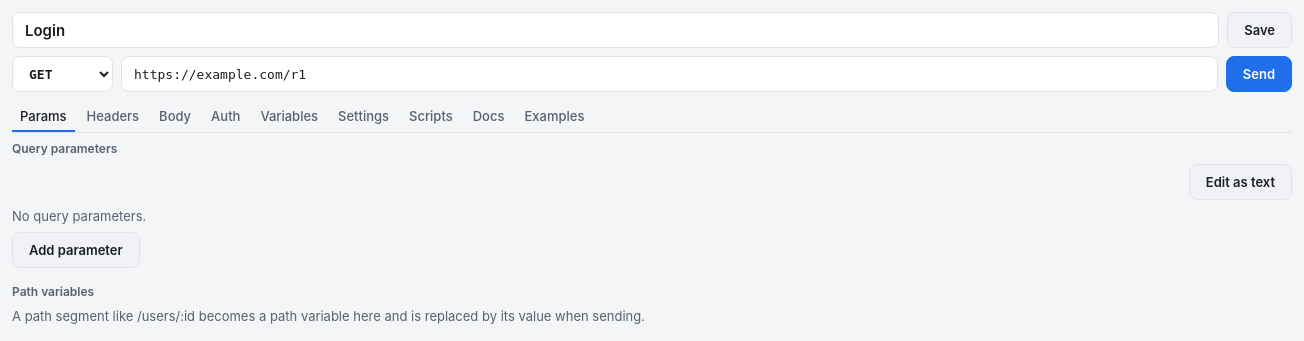
RequestEditor › edits the request variables
Click the tab "Variables". click: x=289, y=116
box: [252,100,326,132]
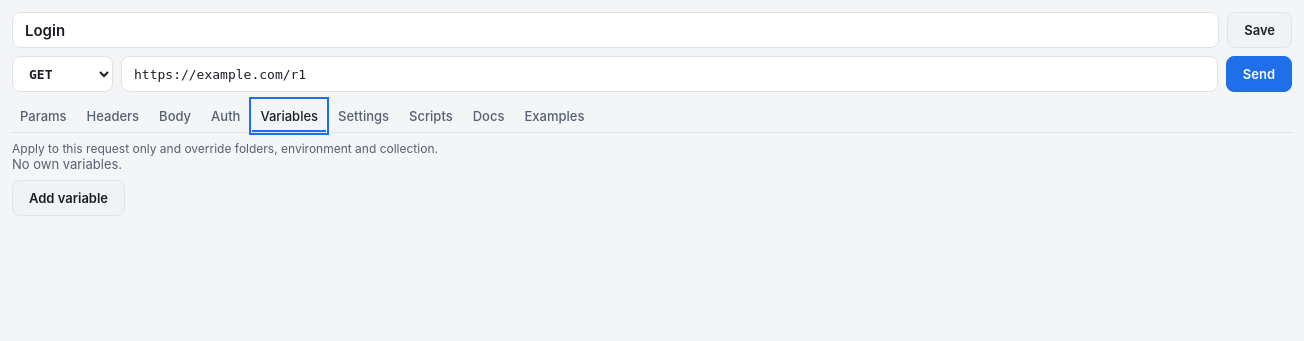
Expected: the text "No own variables." is shown, [12,156,122,172]
Expected: the text "override folders, environment and collection" is shown, [12,141,438,156]
Click the button "Add variable". click: x=69, y=198
box: [12,180,125,216]
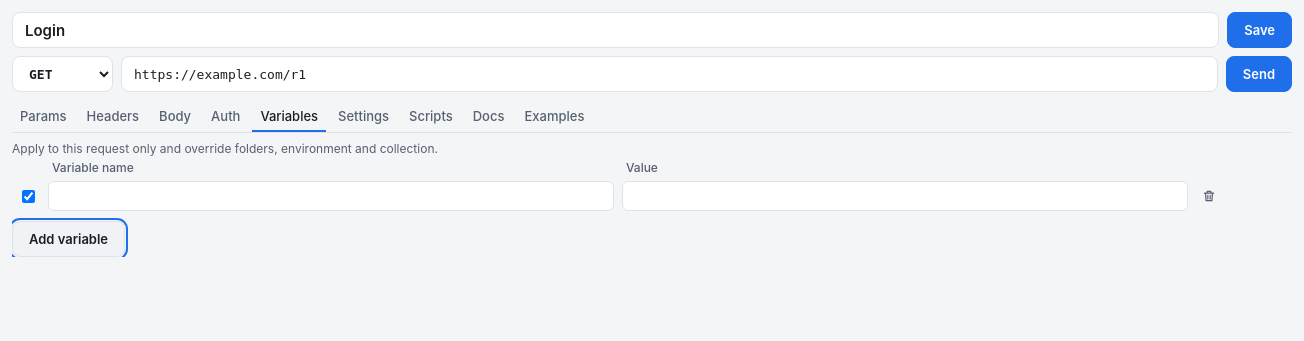
Type "path" into the field named "Variable name". click: x=331, y=196
box: [48,181,614,211]
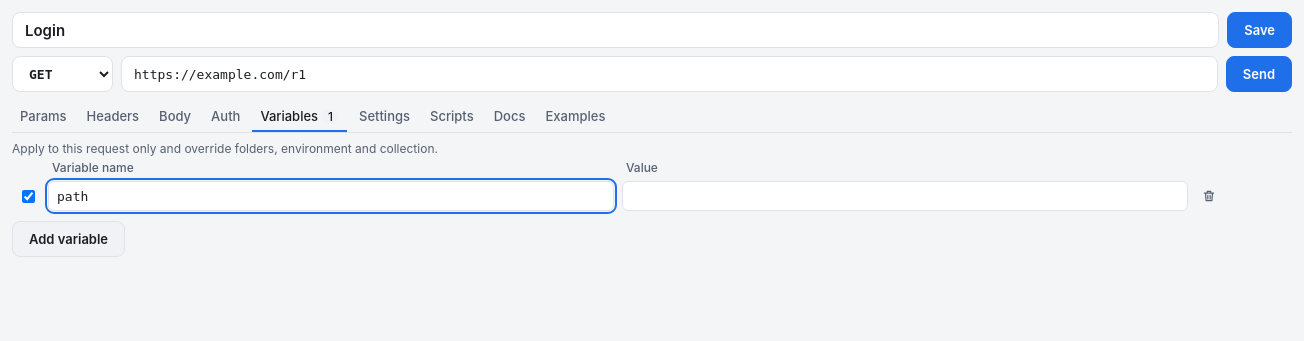
Expected: the tab "Variables 1" is shown, [252,100,347,132]
